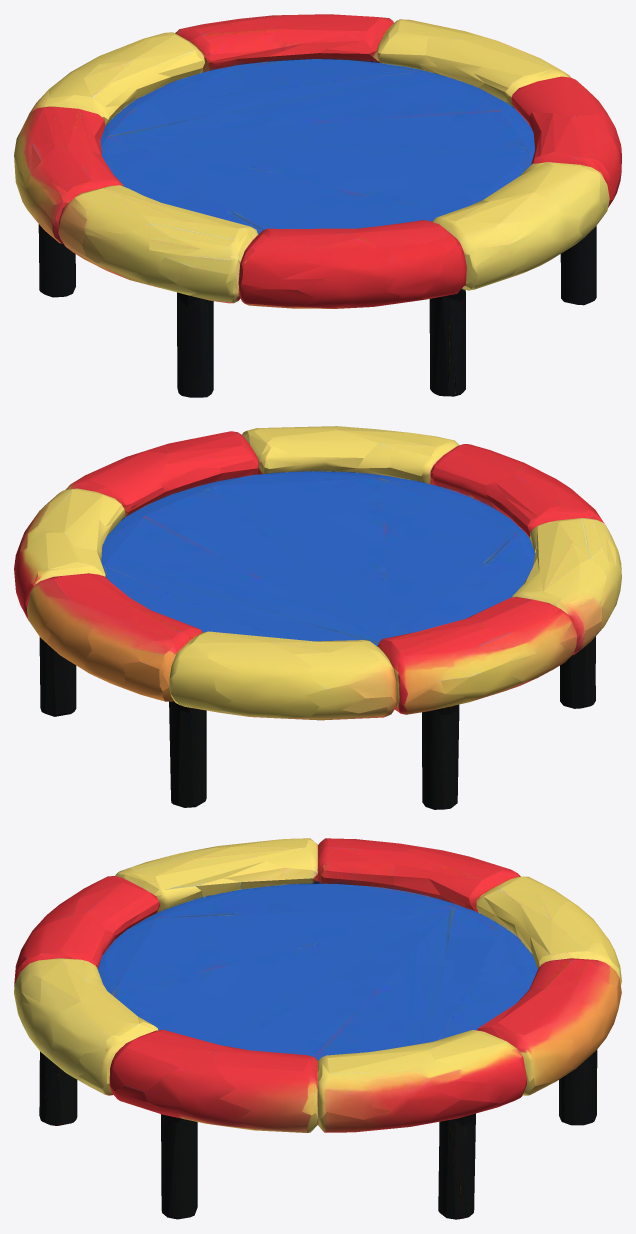
The model's file is trampoline.glb.
3 views of the same model, one above another, from view 1: azimuth 30°, elevation 25°; view 2: azimuth 150°, elevation 25°; view 3: azimuth 270°, elevation 25° (orthographic).
Size of the model in its own units: 3 by 0.9057 by 3.
Materials: 1 (1 with a texture image).
